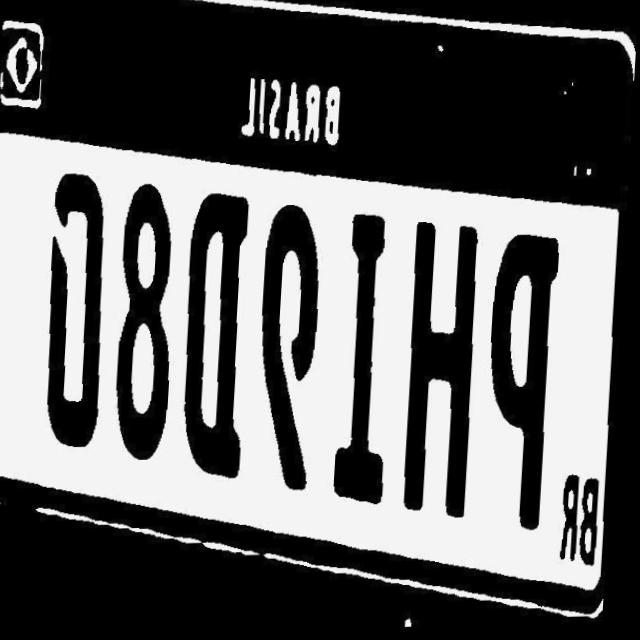0: (44, 159, 130, 441)
8: (116, 165, 194, 456)
9: (255, 195, 345, 489)
d: (176, 176, 272, 465)
h: (402, 210, 495, 521)
i: (331, 203, 416, 507)
p: (484, 226, 572, 532)
